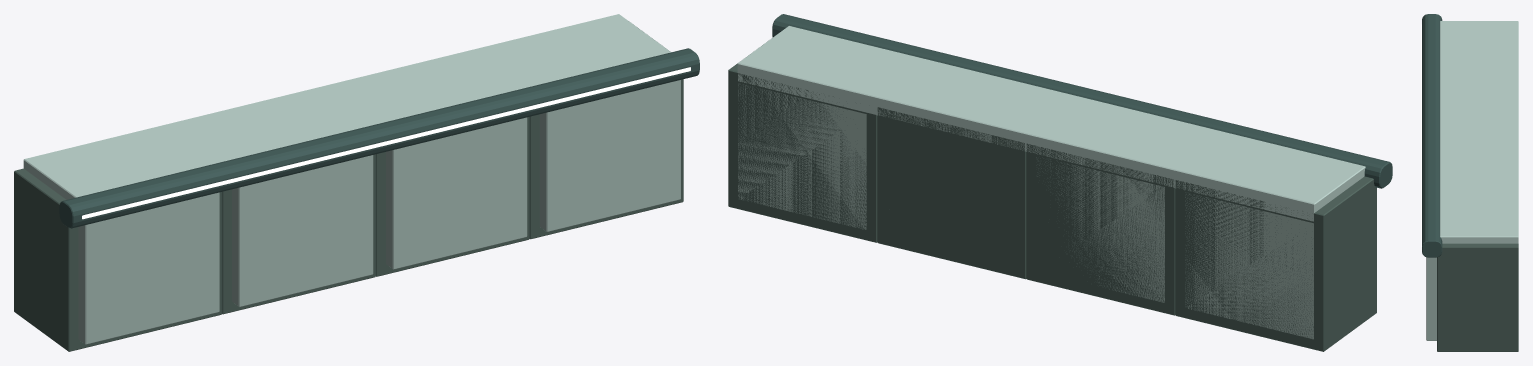
The model's file is Terrain_TopRun4LR.gltf.
The picture shows the model from 3 angles, left to right: view 1: azimuth 30°, elevation 25°; view 2: azimuth 150°, elevation 25°; view 3: azimuth 270°, elevation 25°; orthographic projection. The views are drawn at different scales.
Parts seen in each view (by area): view 1: Terrain_TopRun4LR_baked; view 2: Terrain_TopRun4LR_baked; view 3: Terrain_TopRun4LR_baked.
Part boxes in pixels (box(x1,y1,x2,y2)): Terrain_TopRun4LR_baked: box(14, 14, 699, 351); Terrain_TopRun4LR_baked: box(728, 14, 1392, 351); Terrain_TopRun4LR_baked: box(1421, 14, 1518, 351).
Bounding box in the file's own units: 4.08 × 0.9495 × 0.74.
